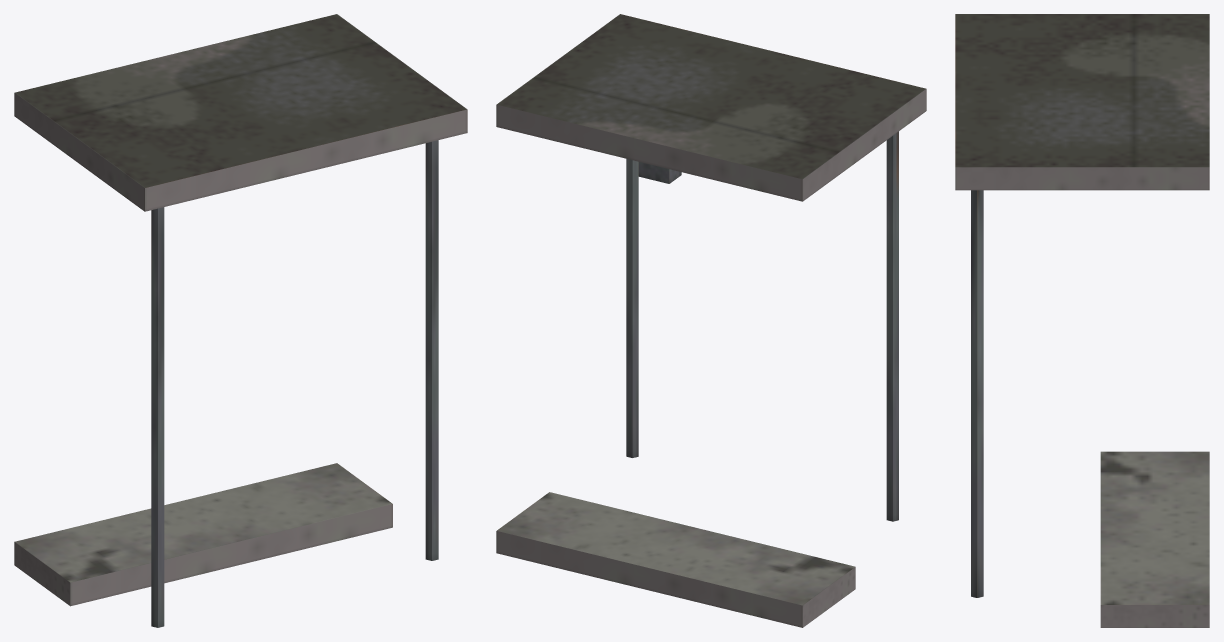
The model's file is entrance_canopy.fbx.
The picture shows the model from 3 angles, left to right: view 1: azimuth 30°, elevation 25°; view 2: azimuth 150°, elevation 25°; view 3: azimuth 270°, elevation 25°; orthographic projection. The views are drawn at different scales.
Parts seen in each view (by area): view 1: entrance_canopy; view 2: entrance_canopy; view 3: entrance_canopy.
Part boxes in pixels (x1,y1,x2,y2): entrance_canopy: (14, 14, 467, 627); entrance_canopy: (496, 14, 926, 627); entrance_canopy: (955, 14, 1209, 627).
Bounding box in the file's own units: 2 × 2.8 × 1.4.
